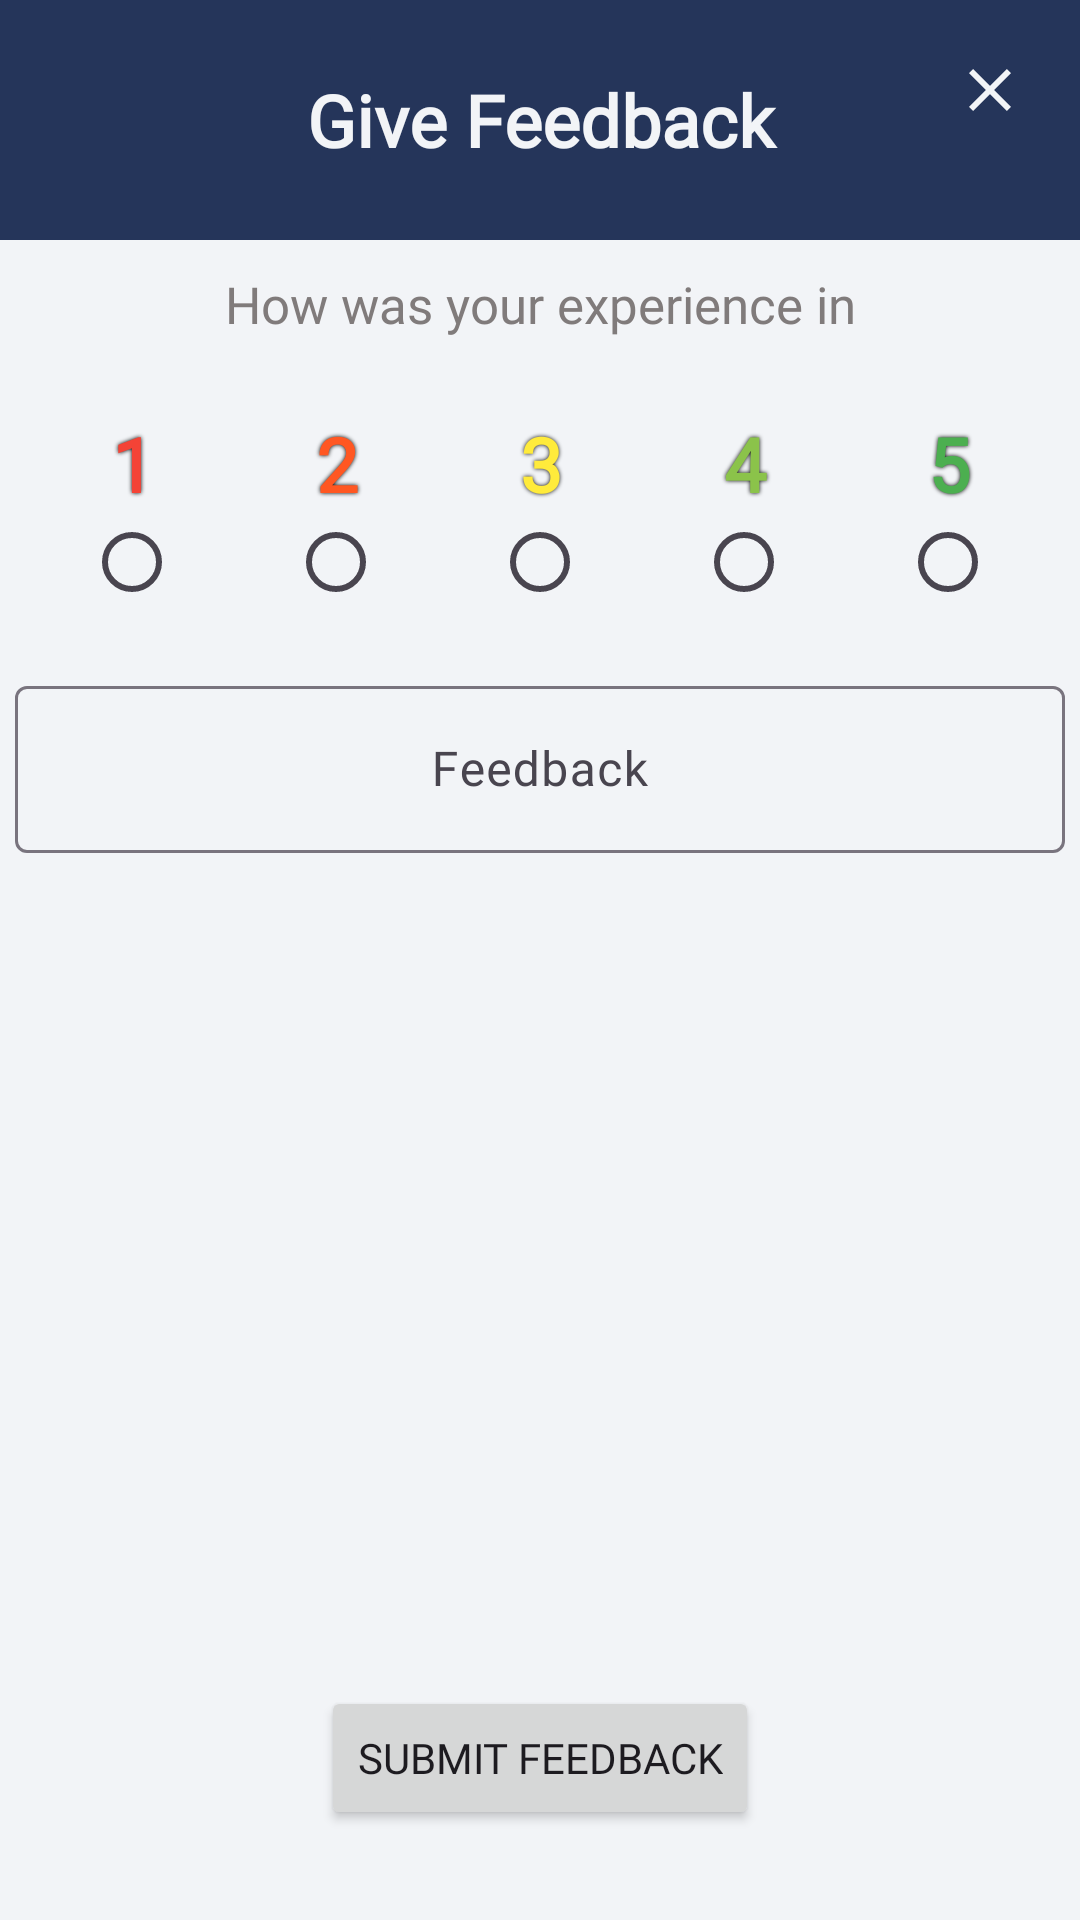

Icons on this 1080×1920 Android screen, each with its box as (x1, y1, x2, y2):
close: (969, 69, 1011, 111)
